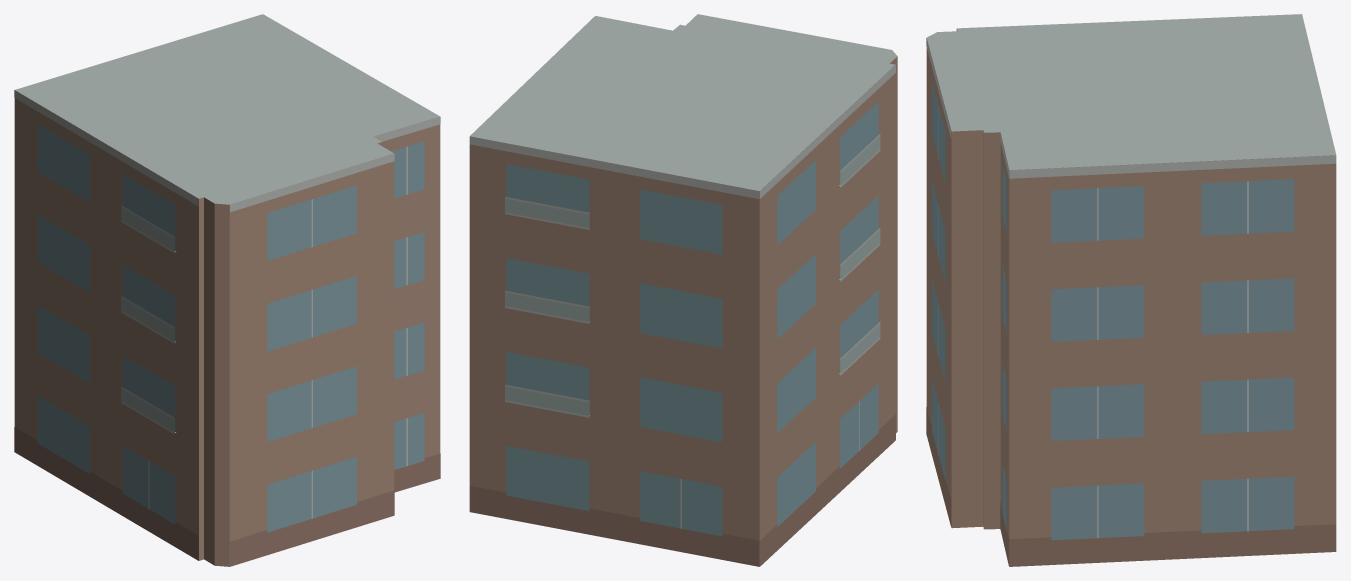
The model's file is survey-upis-32653262.glb.
The picture shows the model from 3 angles, left to right: view 1: azimuth 30°, elevation 25°; view 2: azimuth 150°, elevation 25°; view 3: azimuth 270°, elevation 25°; orthographic projection. The views are drawn at different scales.
Visible parts, largest first — view 1: survey-upis-32653262.tmp; view 2: survey-upis-32653262.tmp; view 3: survey-upis-32653262.tmp.
Part boxes in pixels (left/top/right/bottom): survey-upis-32653262.tmp: left=14, top=14, right=440, bottom=566; survey-upis-32653262.tmp: left=469, top=14, right=897, bottom=566; survey-upis-32653262.tmp: left=926, top=14, right=1336, bottom=566.
Size of the model in its own units: 9.59 by 11.35 by 10.64.
